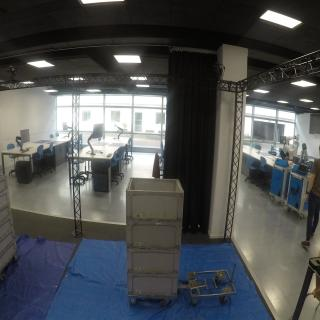Box4G: (126, 177, 185, 224), (127, 219, 183, 249), (127, 248, 182, 277), (127, 273, 181, 300)
